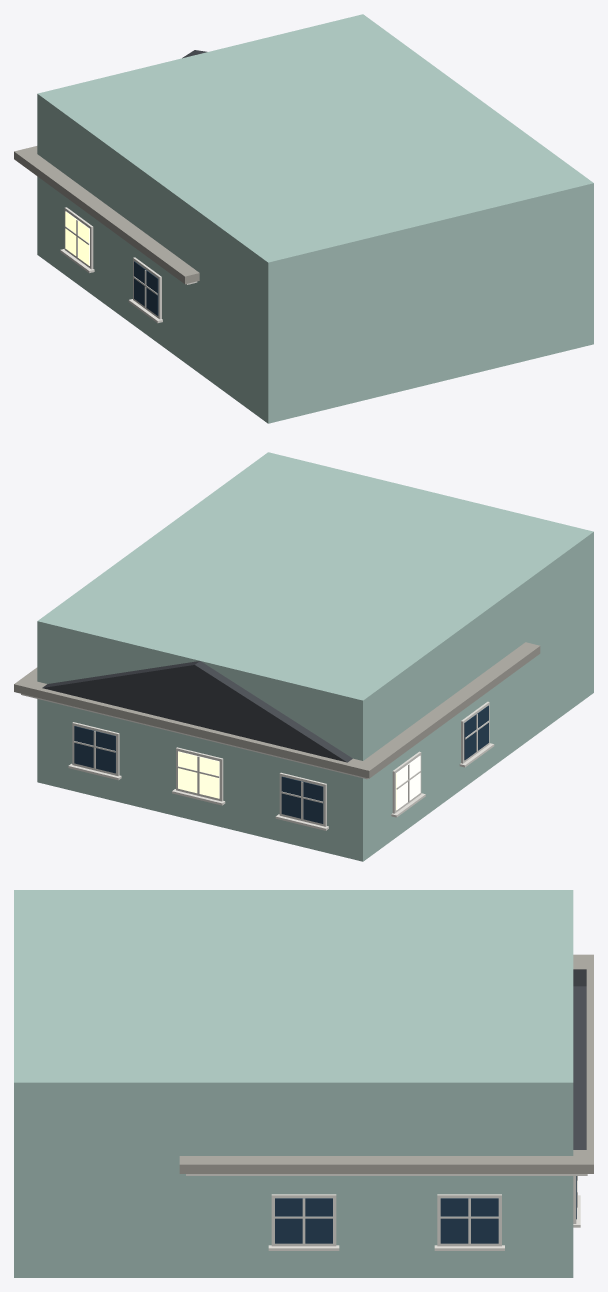
Rendered from BLD_House_B.fbx.
3 views of the same model, one above another, from view 1: azimuth 30°, elevation 25°; view 2: azimuth 150°, elevation 25°; view 3: azimuth 270°, elevation 25° (orthographic). The views are drawn at different scales.
Visible parts, largest first — view 1: BLD_House_B__COL_Main, BLD_House_B__BODY; view 2: BLD_House_B__COL_Main, BLD_House_B__BODY; view 3: BLD_House_B__COL_Main, BLD_House_B__BODY.
Part boxes in pixels (x1,y1,x2,y2): BLD_House_B__COL_Main: (37,14,593,423); BLD_House_B__BODY: (14,50,206,362); BLD_House_B__COL_Main: (37,452,593,861); BLD_House_B__BODY: (14,642,540,861); BLD_House_B__COL_Main: (14,890,573,1277); BLD_House_B__BODY: (179,954,593,1277).
Bounding box in the file's own units: 12 × 5.2 × 14.
